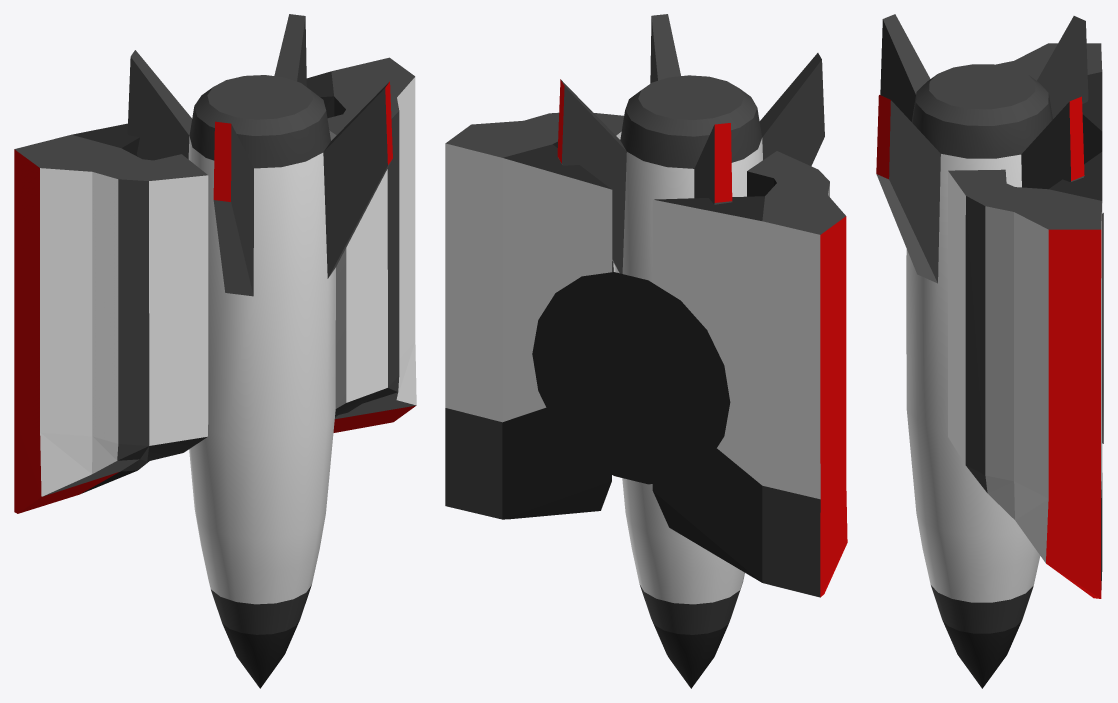
The model's file is launcher.obj.
3 renders of one model, left to right at view 1: azimuth 30°, elevation 25°; view 2: azimuth 150°, elevation 25°; view 3: azimuth 270°, elevation 25°, orthographic.
Parts seen in each view (by area): view 1: Box002, Cone012; view 2: Box002, Cone012, Cylinder033; view 3: Box002, Cone012, Cylinder033.
Boxes of the visible parts, x1=… form: Box002: x1=14, y1=57, x2=416, y2=513; Cone012: x1=127, y1=14, x2=392, y2=688; Box002: x1=445, y1=112, x2=847, y2=597; Cone012: x1=557, y1=14, x2=824, y2=688; Cylinder033: x1=532, y1=272, x2=730, y2=484; Box002: x1=948, y1=43, x2=1102, y2=598; Cone012: x1=876, y1=14, x2=1088, y2=688; Cylinder033: x1=1102, y1=213, x2=1103, y2=443.
Size of the model in its own units: 1.14 by 1.79 by 0.5858.
